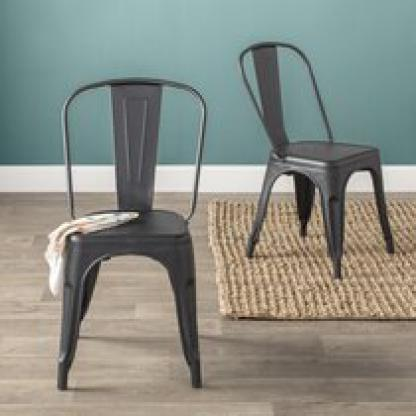chair: (34, 72, 211, 401), (237, 37, 401, 284)
